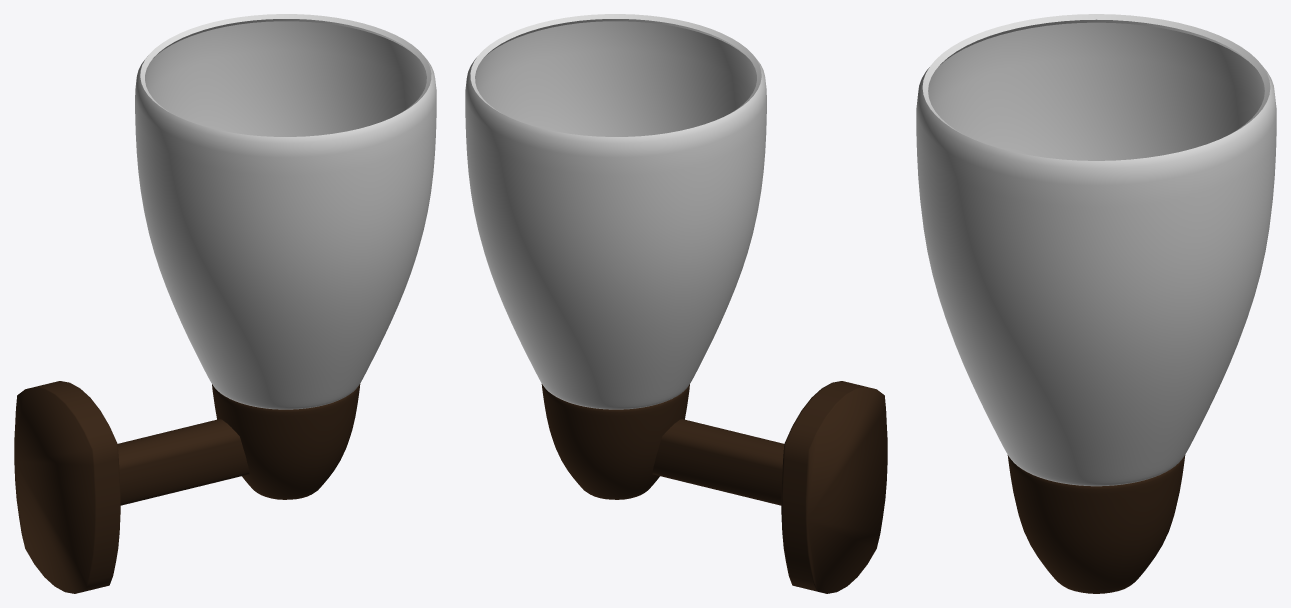
The model's file is Lamp hallway (2).fbx.
3 renders of one model, left to right at view 1: azimuth 30°, elevation 25°; view 2: azimuth 150°, elevation 25°; view 3: azimuth 270°, elevation 25°, orthographic. The views are drawn at different scales.
Visible parts, largest first — view 1: genericLamp_glass, genericLamp_base, genericLamp_receptacle, genericLamp_arm; view 2: genericLamp_glass, genericLamp_base, genericLamp_receptacle, genericLamp_arm; view 3: genericLamp_glass, genericLamp_receptacle.
Part boxes in pixels (bbox=[...]): genericLamp_glass: bbox=[135, 14, 436, 409]; genericLamp_base: bbox=[14, 381, 120, 593]; genericLamp_receptacle: bbox=[212, 384, 360, 499]; genericLamp_arm: bbox=[117, 419, 249, 505]; genericLamp_glass: bbox=[465, 14, 766, 409]; genericLamp_base: bbox=[781, 381, 887, 593]; genericLamp_receptacle: bbox=[541, 384, 689, 499]; genericLamp_arm: bbox=[652, 419, 784, 505]; genericLamp_glass: bbox=[916, 14, 1276, 486]; genericLamp_receptacle: bbox=[1007, 455, 1185, 593].
Size of the model in its own units: 37.14 by 44.55 by 26.83.
